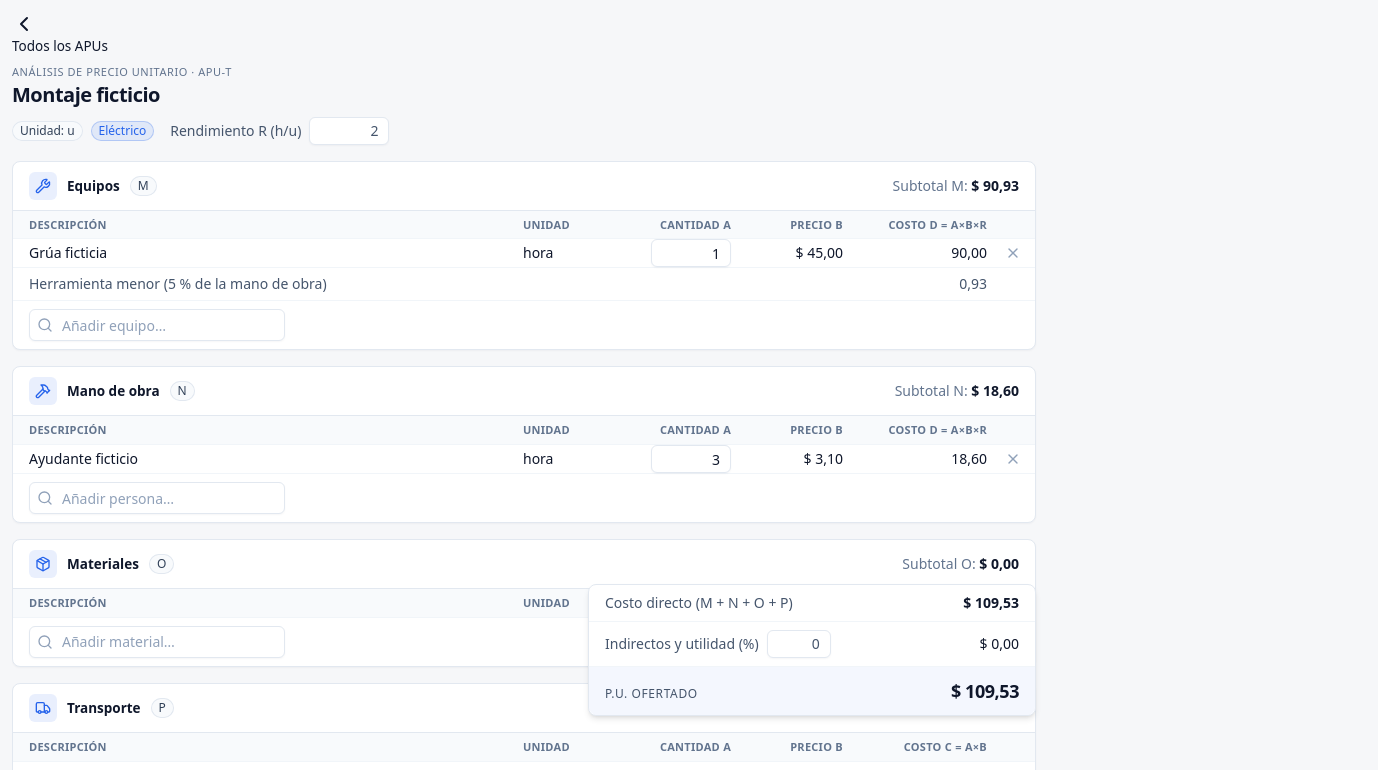
Test: subir ayudantes de 3 a 4 recalcula el CU con el motor
Expected: the text "$ 109,53" in the row of "Costo directo (M + N + O + P)" is shown, [963,593,1019,612]
Replace the text in the field named "Cantidad Ayudante ficticio" with "4": (691, 459) [651,445,731,473]
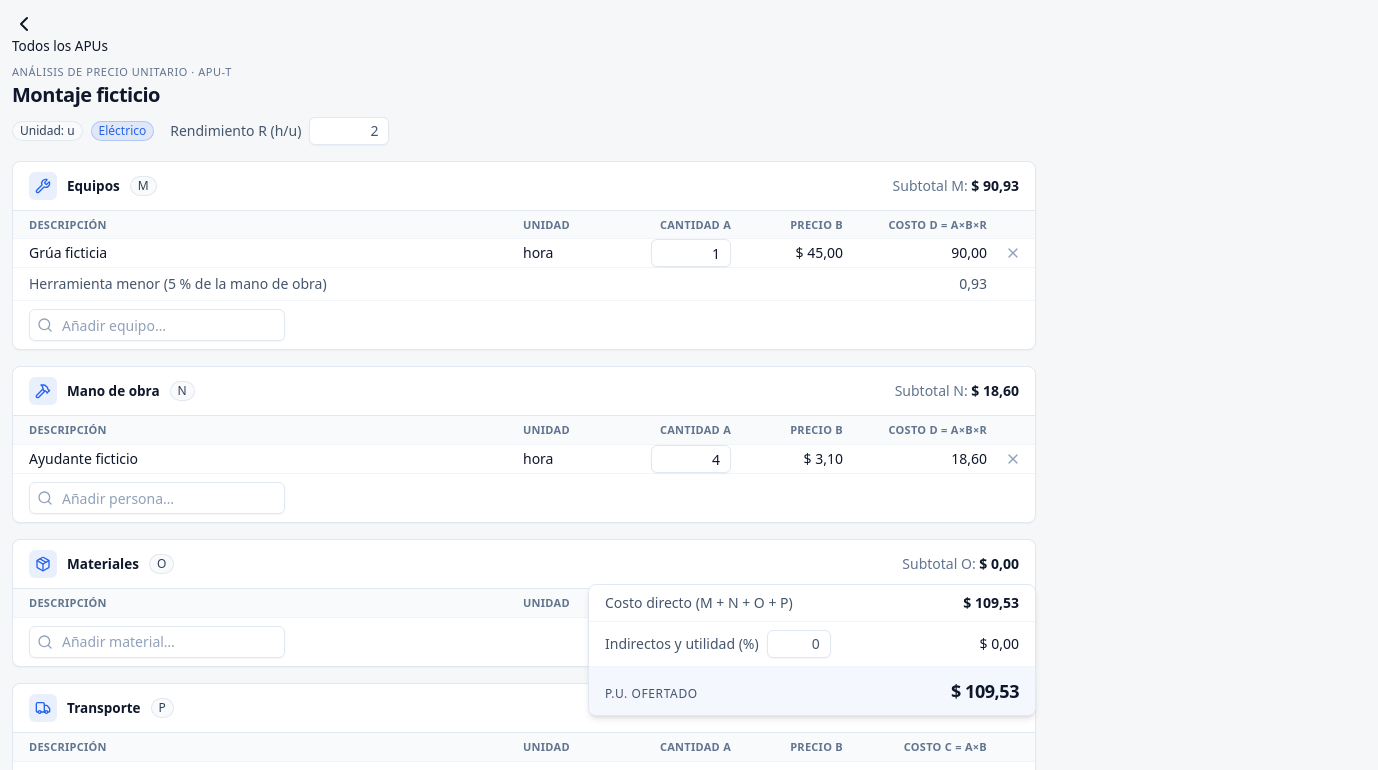
Leave the field named "Cantidad Ayudante ficticio", box [651,445,731,473]
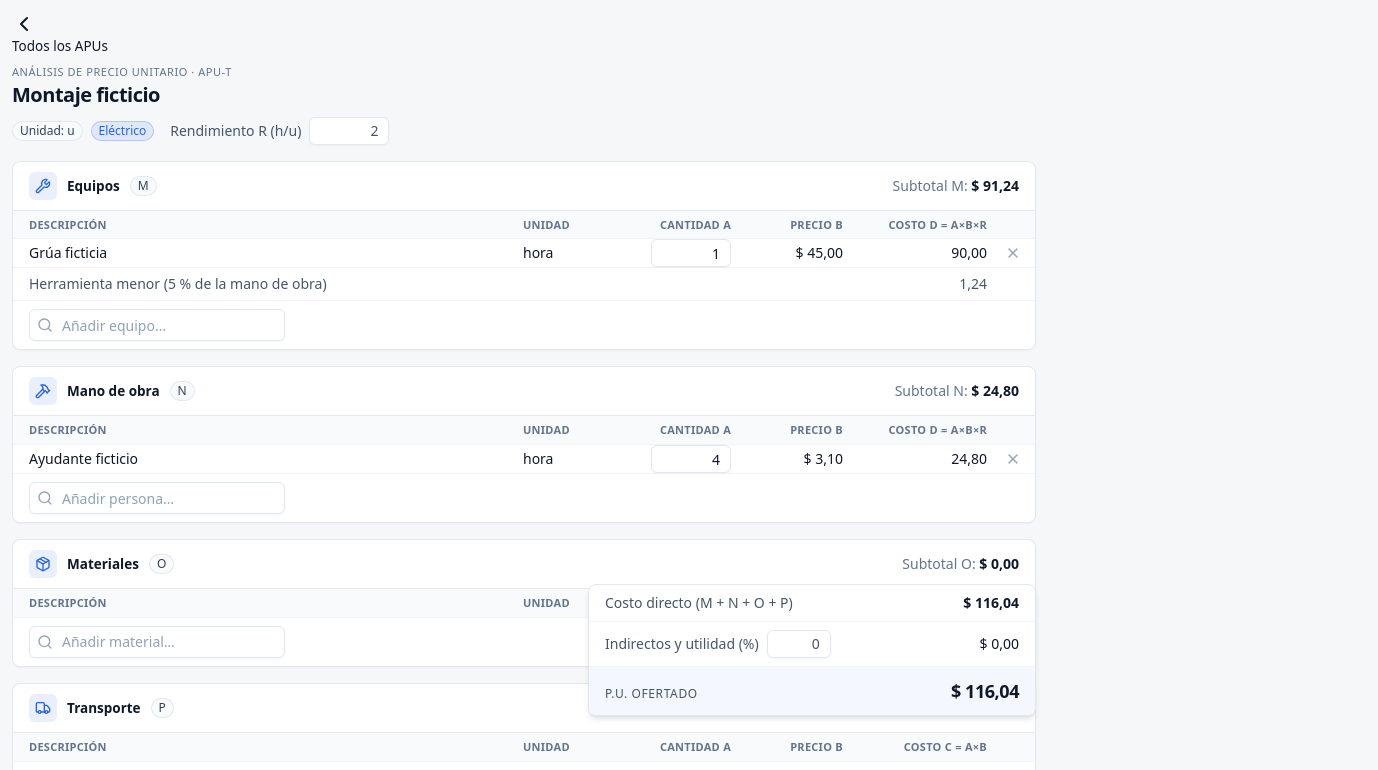
Expected: the text "$ 116,04" in the row of "Costo directo (M + N + O + P)" is shown, [963,593,1019,612]
